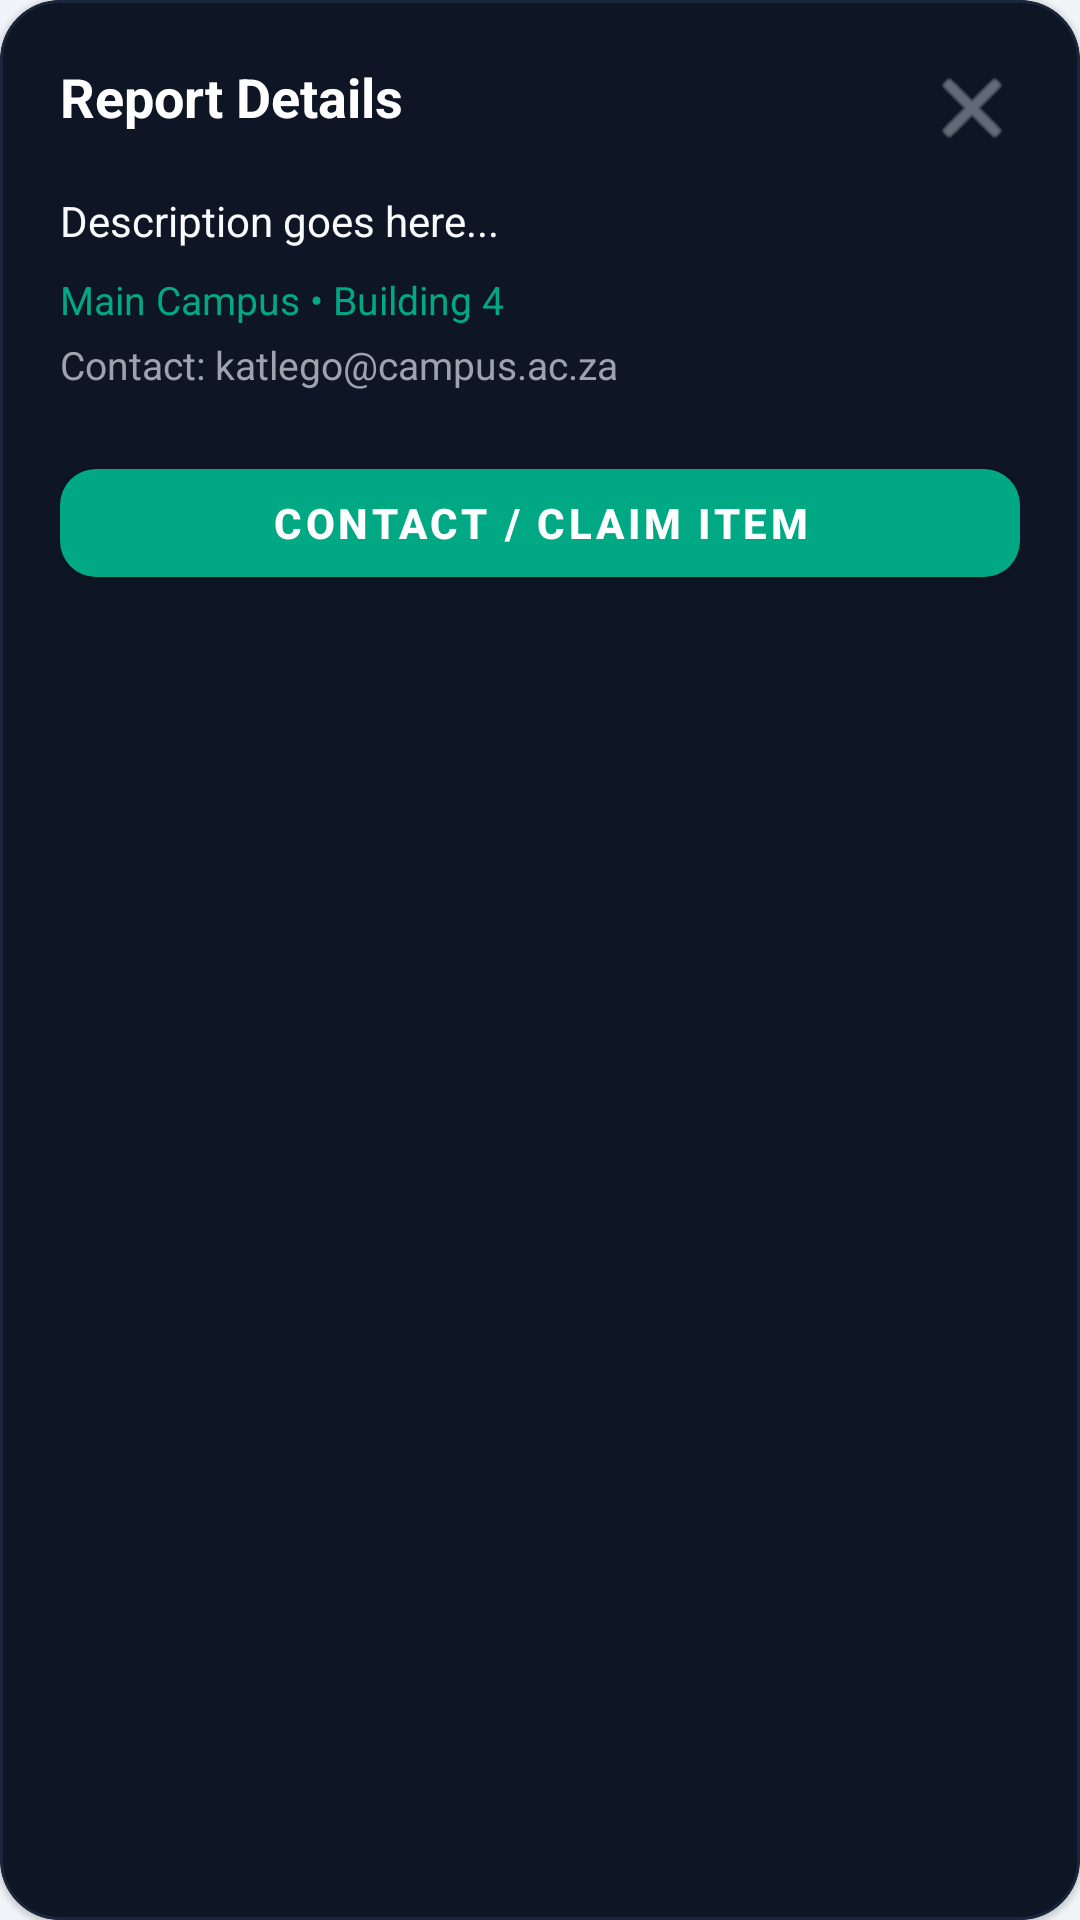

Screen size 1080*1920. Icon name, then its box in pixels as (x1, y1, x2, y2):
Close: (942, 78, 1002, 138)
